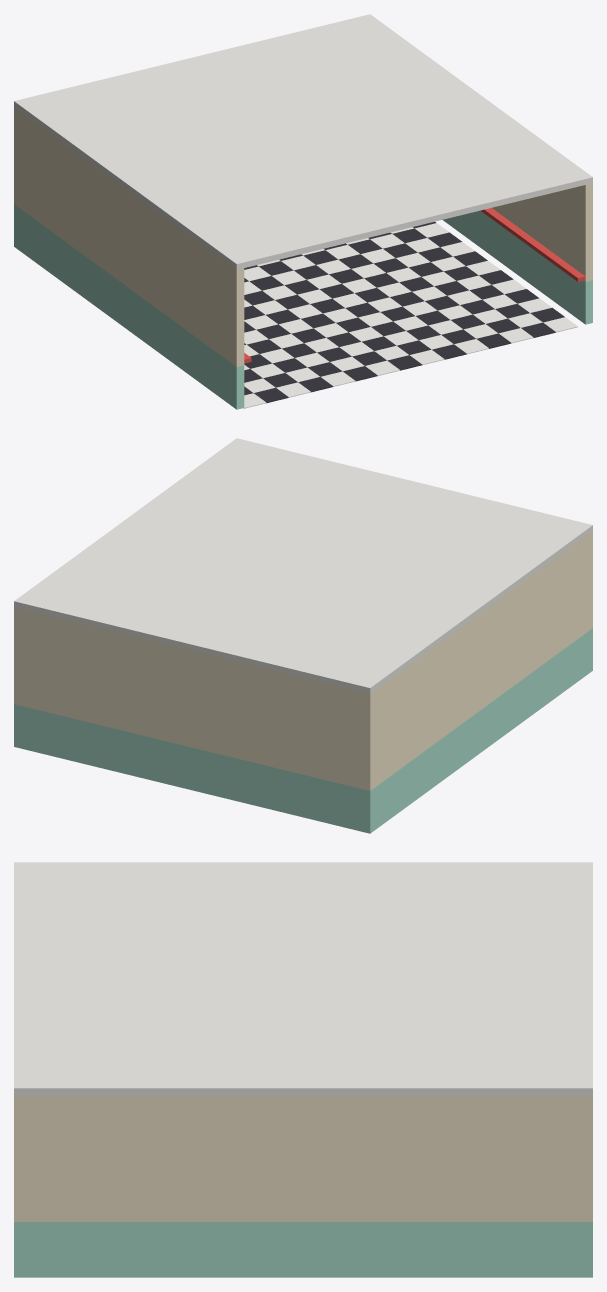
File: diner_room.glb
The picture shows the model from 3 angles, top to bottom: view 1: azimuth 30°, elevation 25°; view 2: azimuth 150°, elevation 25°; view 3: azimuth 270°, elevation 25°; orthographic projection. The views are drawn at different scales.
Visible parts, largest first — view 1: diner_room; view 2: diner_room; view 3: diner_room.
Boxes of the visible parts, x1,y1,x2,y2 form: diner_room: [14, 14, 592, 409]; diner_room: [14, 438, 592, 833]; diner_room: [14, 862, 592, 1277].
Bounding box in the file's own units: 9.6 × 3.77 × 10.4.
